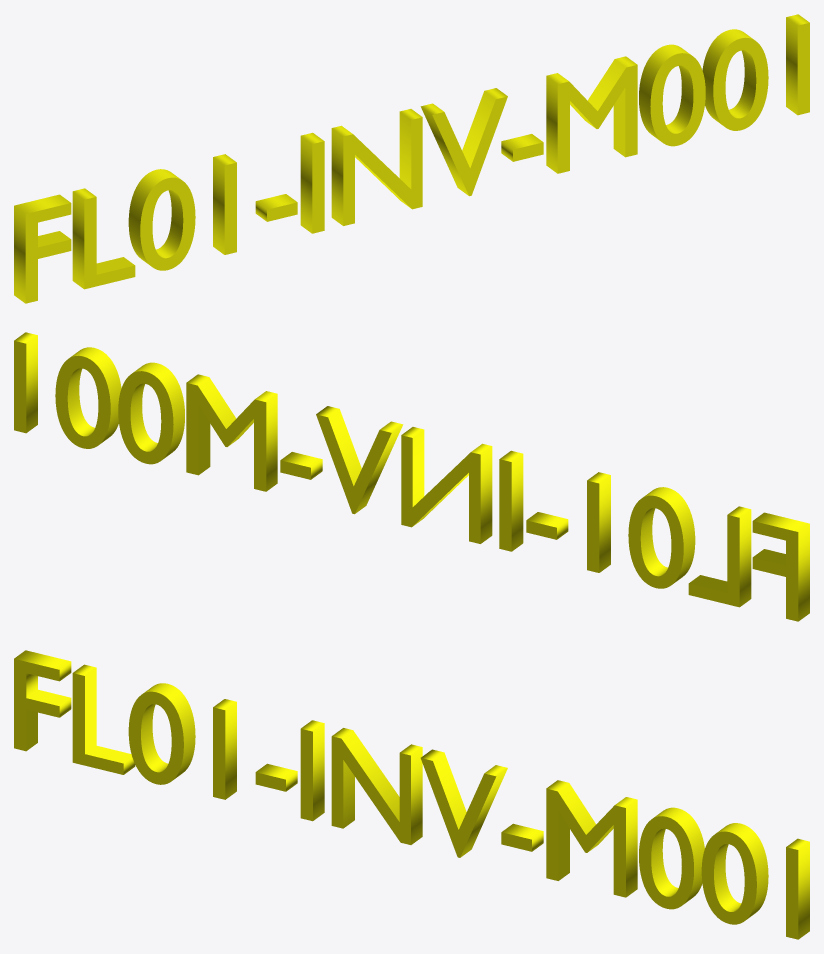
The model's file is FL01-INV-M001.glb.
The picture shows the model from 3 angles, top to bottom: view 1: azimuth 30°, elevation 25°; view 2: azimuth 150°, elevation 25°; view 3: azimuth 330°, elevation 25°; orthographic projection.
Parts seen in each view (by area): view 1: Text; view 2: Text; view 3: Text.
Part boxes in pixels (x1,y1,x2,y2): Text: [14, 14, 809, 303]; Text: [14, 332, 809, 621]; Text: [14, 650, 809, 939].
Bounding box in the file's own units: 6.25 × 0.7 × 0.16.
